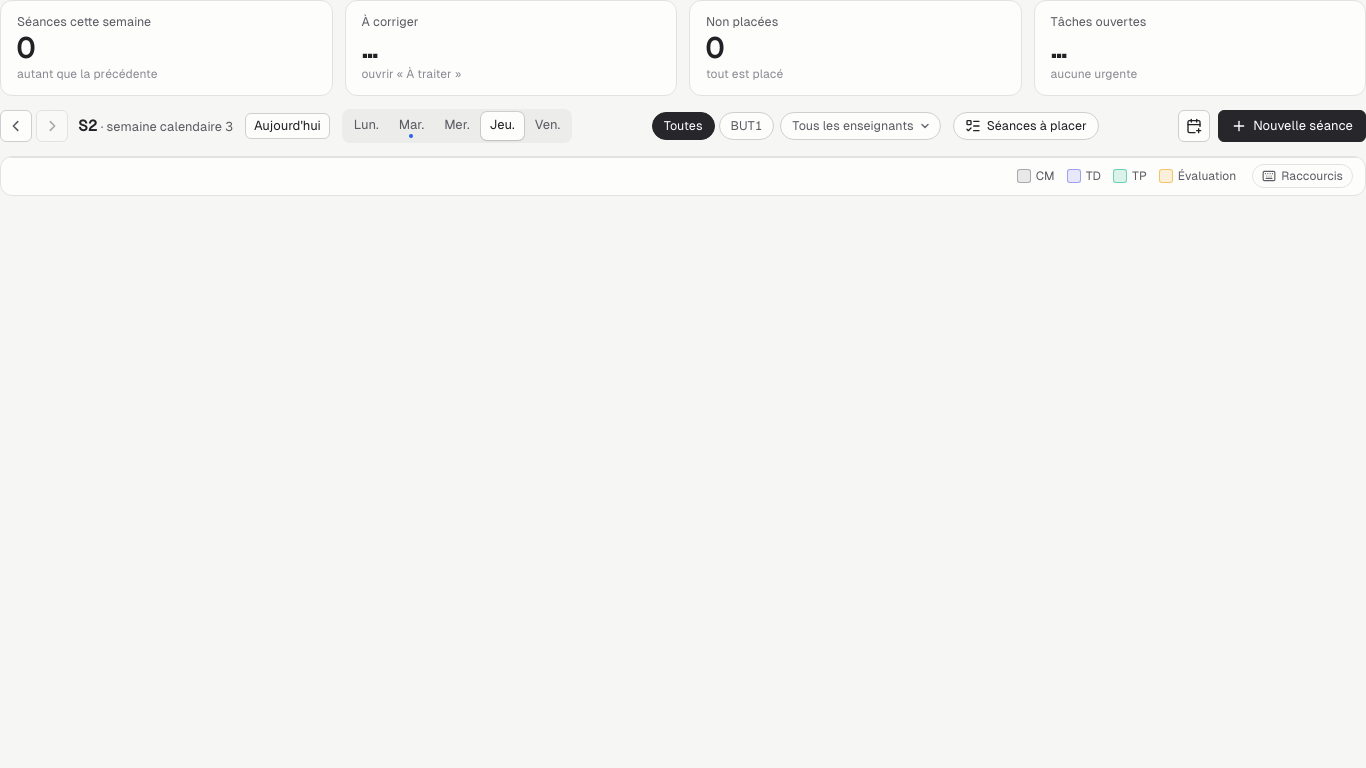
PromoView + Nouvelle séance pre-fills the currently displayed week/day › should open CreerSeanceModal with the week and day currently shown in Vue Promo, not the first week of the year
Click the button "Nouvelle séance" at (1292, 126), box x1=1218 y1=110 x2=1365 y2=142
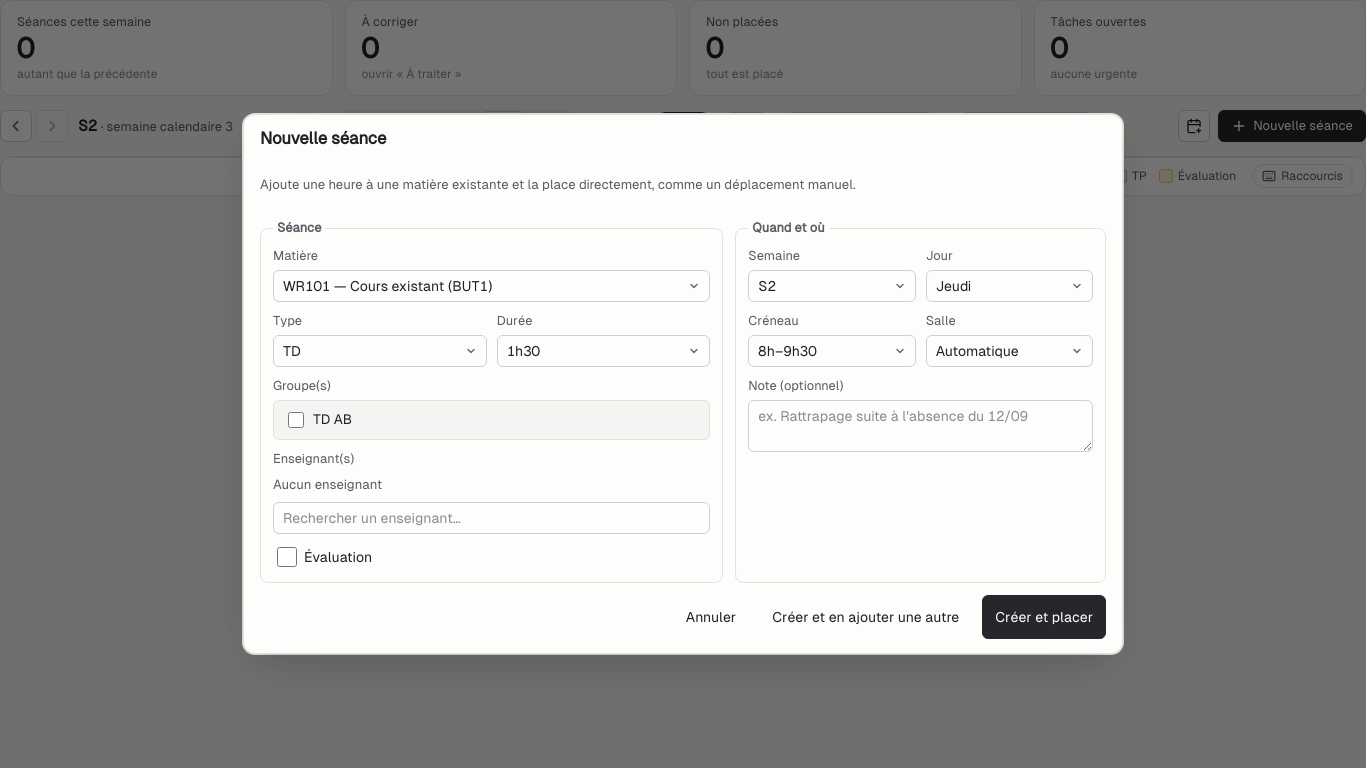
expect the dropdown labelled "Semaine" shows "S2": met, box x1=748 y1=270 x2=916 y2=302
expect the dropdown labelled "Jour" shows "Jeudi": met, box x1=926 y1=270 x2=1093 y2=302
